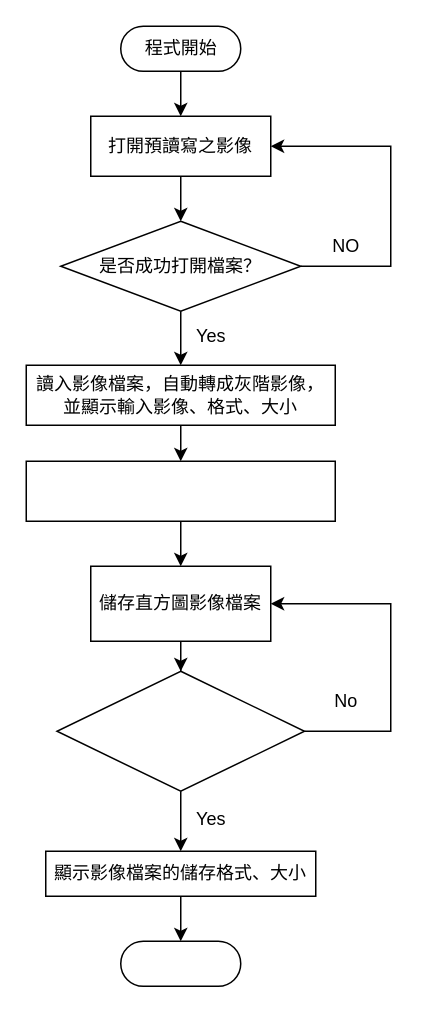
Image size: 429x1013. Some labels were removed from this diagram. The centre of each missing label's shape, as x and y in pixels:
是否成功儲存影像檔案？: the point at 180,730
程式結束: the point at 180,963
計算及繪製輸入影像直方圖， 並輸出直方圖影像、大小至螢幕上: the point at 180,490
